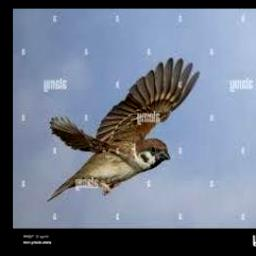Sparrow: (47, 58, 201, 203)
